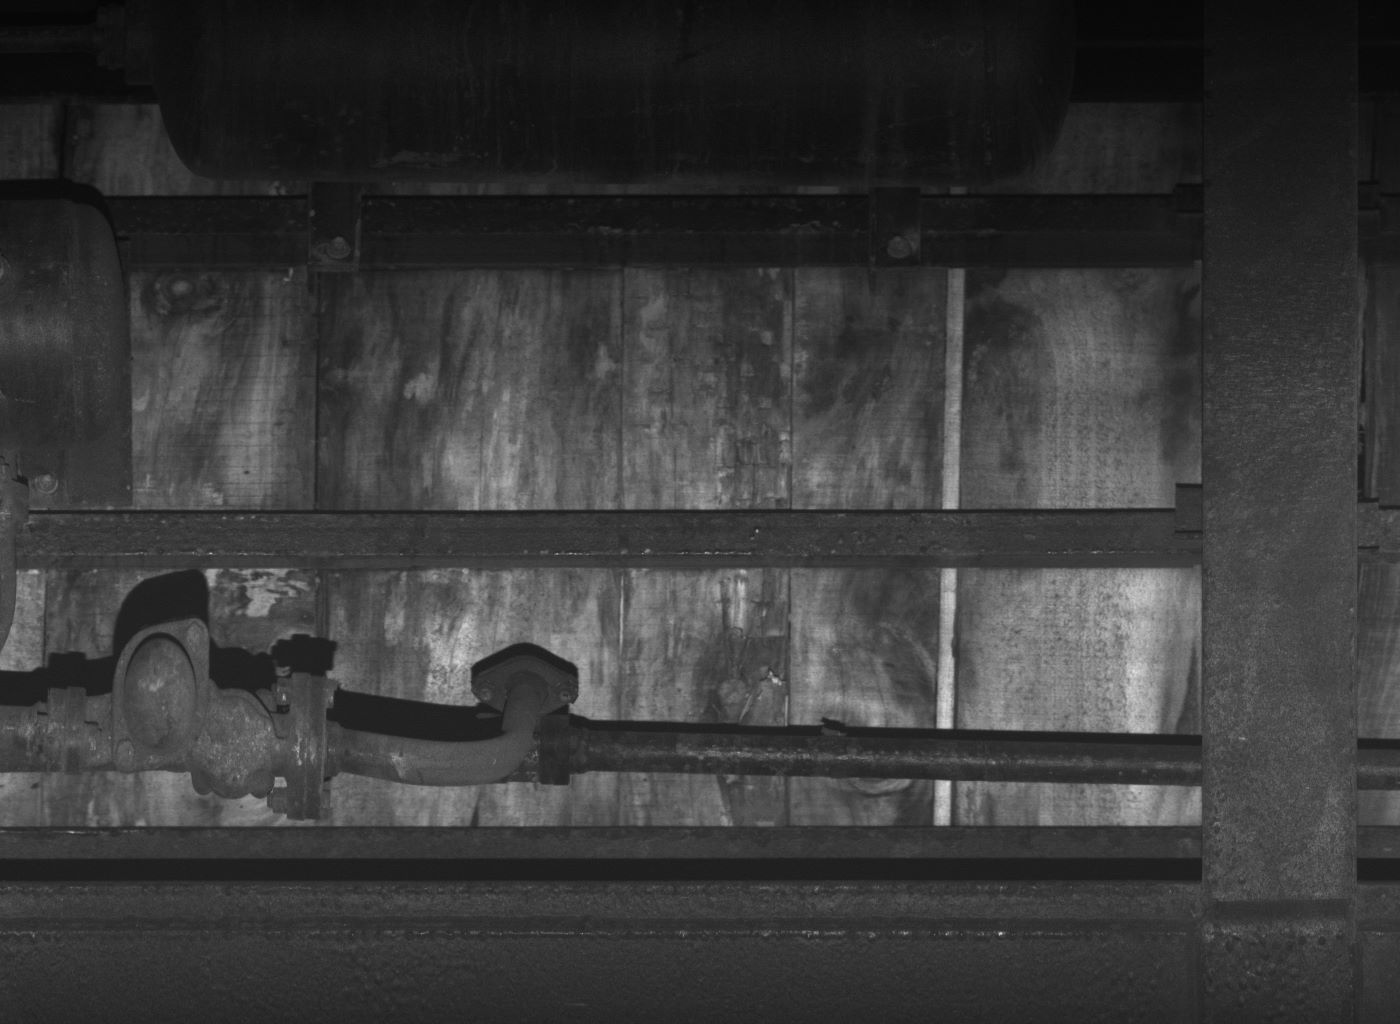normal: (189, 683, 278, 800)
